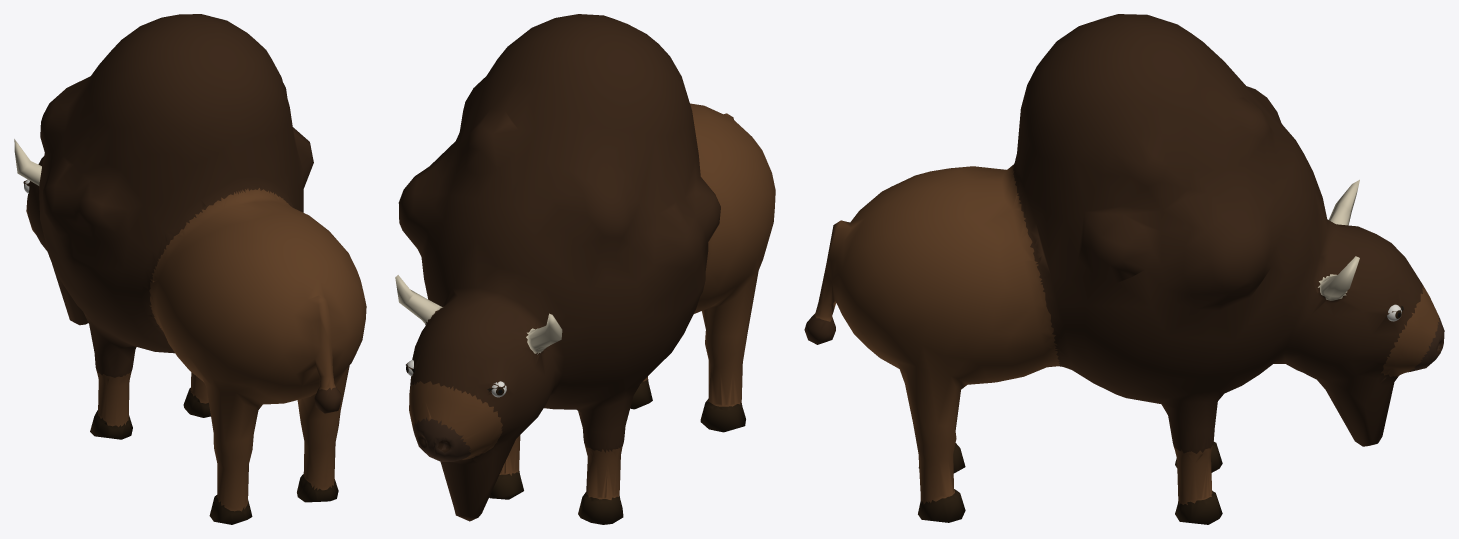
Rendered from bison.glb.
The picture shows the model from 3 angles, left to right: view 1: azimuth 30°, elevation 25°; view 2: azimuth 150°, elevation 25°; view 3: azimuth 270°, elevation 25°; orthographic projection. The views are drawn at different scales.
Parts seen in each view (by area): view 1: body_lod0; view 2: body_lod0; view 3: body_lod0.
Part boxes in pixels (bbox=[...]): body_lod0: bbox=[14, 14, 366, 524]; body_lod0: bbox=[395, 14, 775, 524]; body_lod0: bbox=[804, 14, 1444, 524].
Size of what is drawn, in the model's own units: 1.61 by 2.6 by 3.23.
